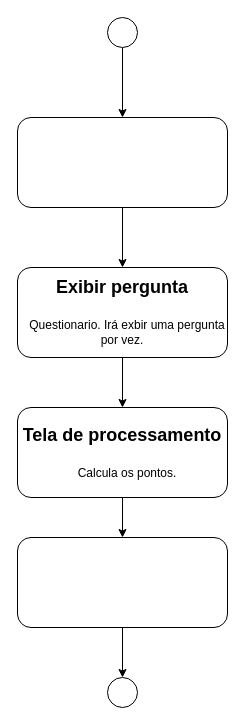
Image size: 245x725. Some labels were removed from this diagram. The centre of each missing label's shape, as x and y in pixels:
"Tela de cadastro Jogador digita o nome." belongs at pixel 122 162.
"Tela de resultado Exibe a casa com mais pontos." belongs at pixel 122 582.
